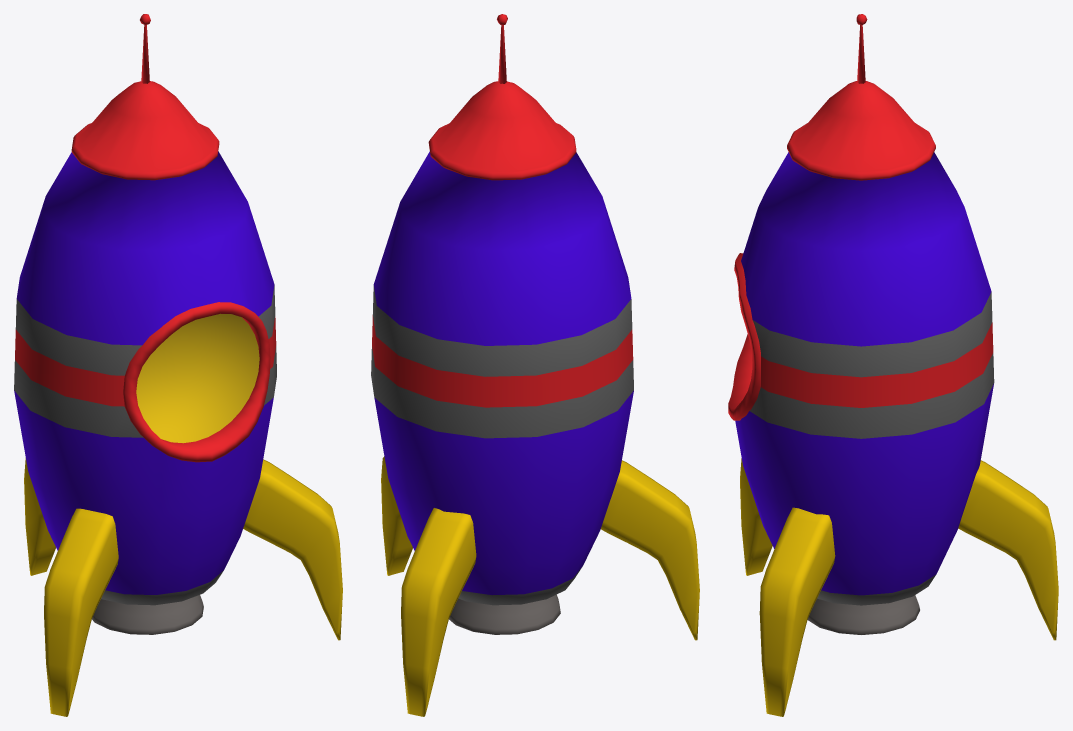
Rendered from rocket_2_export.glb.
3 renders of one model, left to right at view 1: azimuth 30°, elevation 25°; view 2: azimuth 150°, elevation 25°; view 3: azimuth 270°, elevation 25°, orthographic.
Parts seen in each view (by area): view 1: Body, Legs, Interior, Window; view 2: Body, Legs; view 3: Body, Legs, Window.
Part boxes in pixels (<box>): Body: <box>14,81,276,634</box>; Legs: <box>24,458,342,716</box>; Interior: <box>136,313,259,443</box>; Window: <box>123,302,270,462</box>; Body: <box>371,81,633,634</box>; Legs: <box>381,456,699,716</box>; Body: <box>735,81,994,634</box>; Legs: <box>740,458,1058,716</box>; Window: <box>728,253,760,420</box>.
Size of the model in its own units: 2.97 by 5.81 by 2.78.
